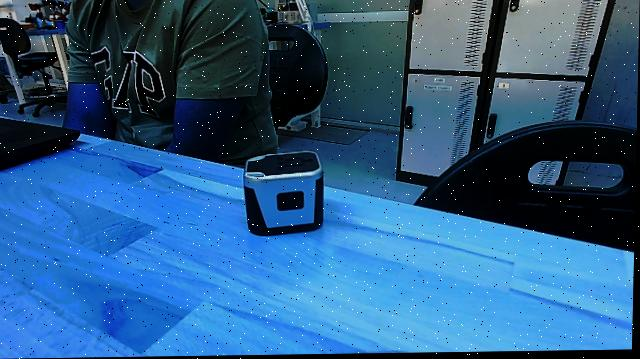adapter: (236, 147, 329, 246)
